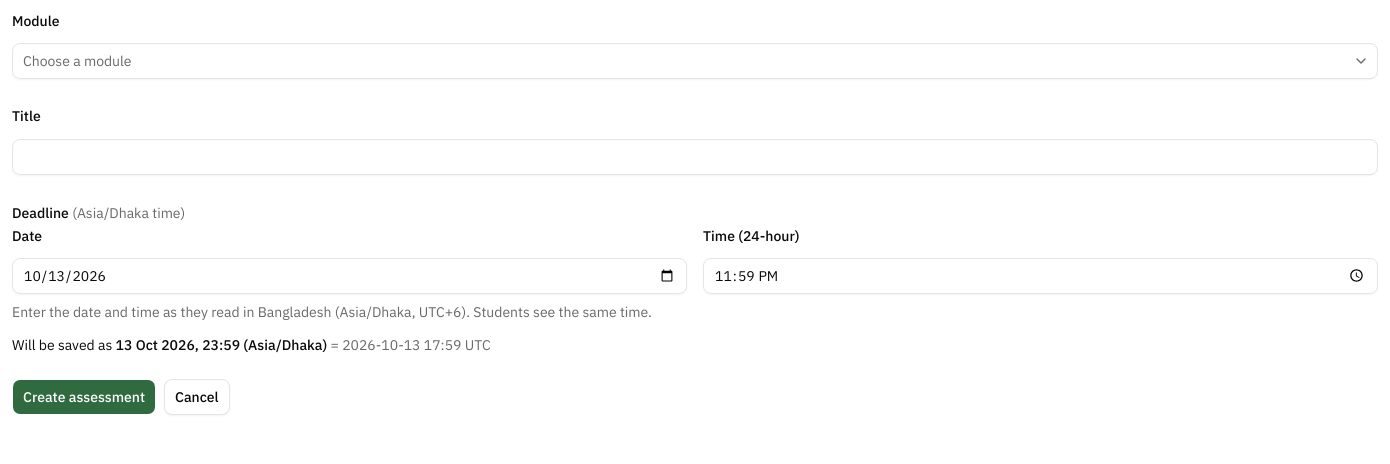
Scenario: new assessment form › maps a server field error onto the field
Click the dropdown labelled "module" at coordinates (77, 61), box [12,43,1378,79]
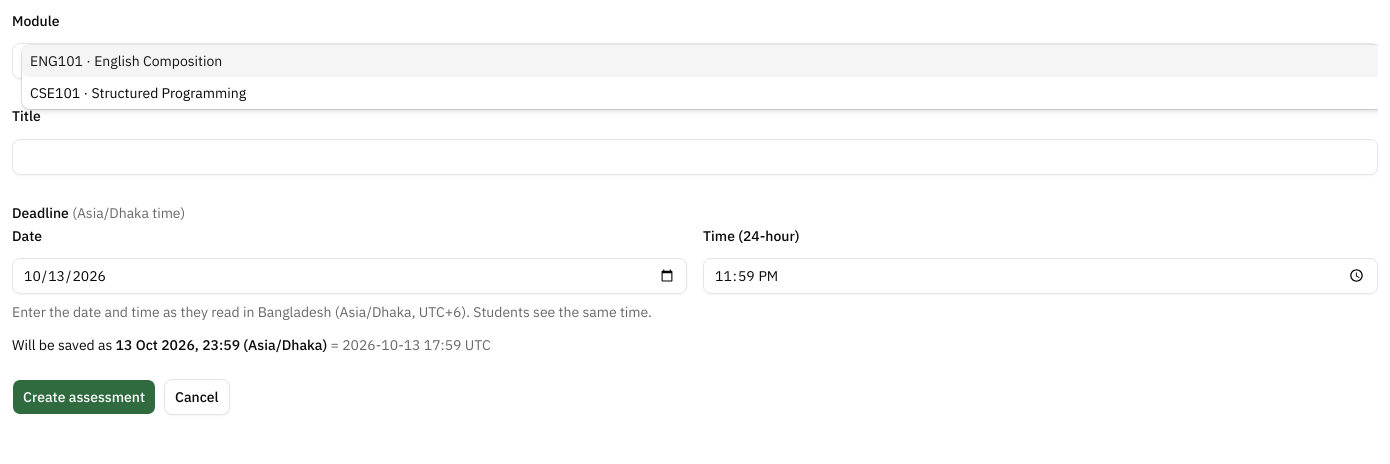
Click the option "ENG101 · English Composition" at coordinates (56, 61), box [22,45,1378,77]
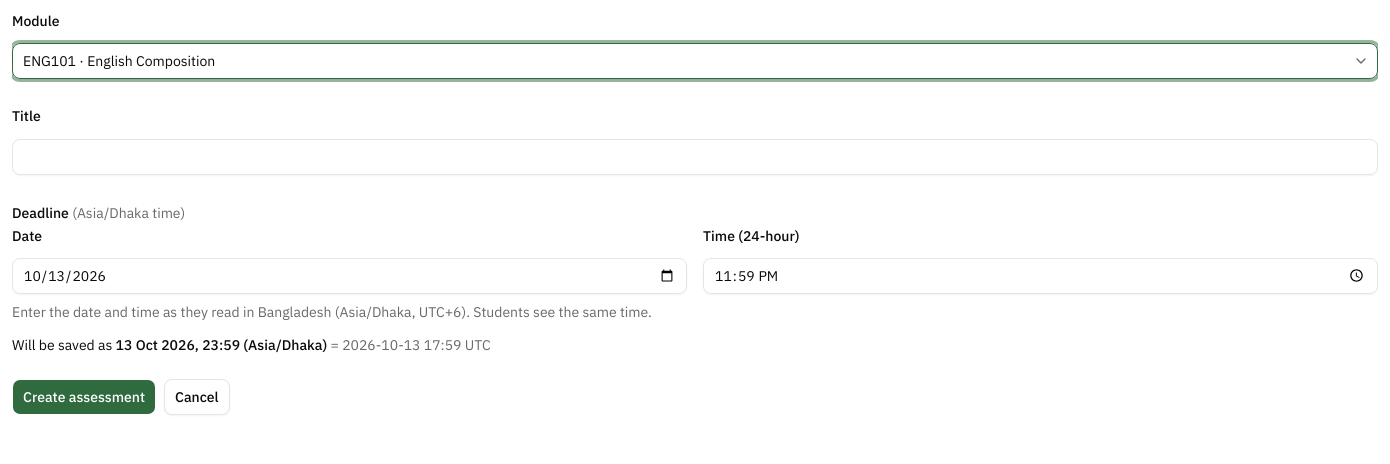
Type "Essay" into the field labelled "Title" at coordinates (695, 156), box [12,138,1378,174]
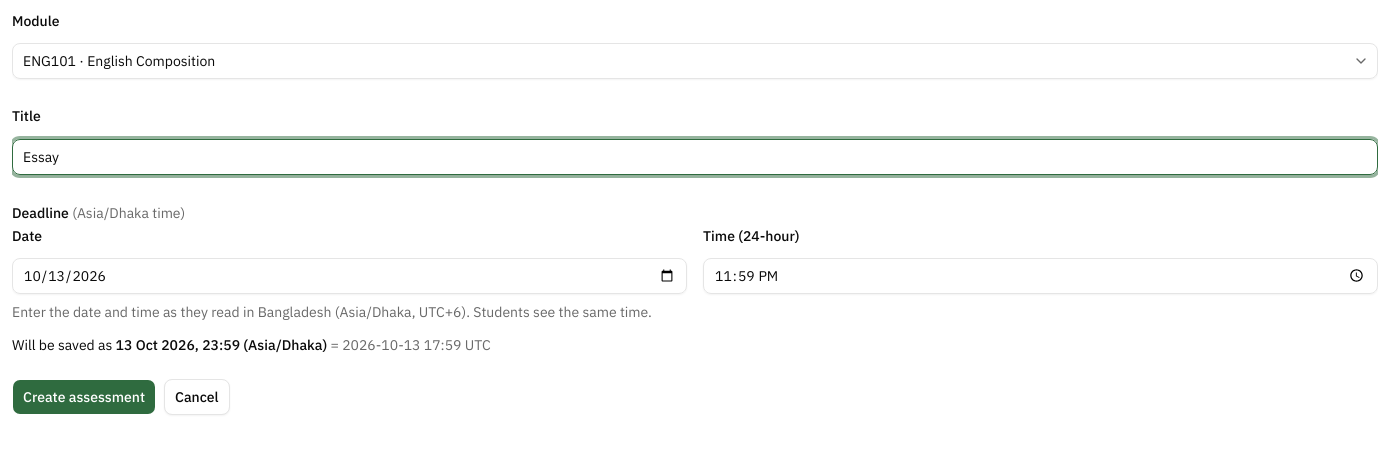
Click the button "Create assessment" at coordinates (84, 397), box [12,379,156,415]
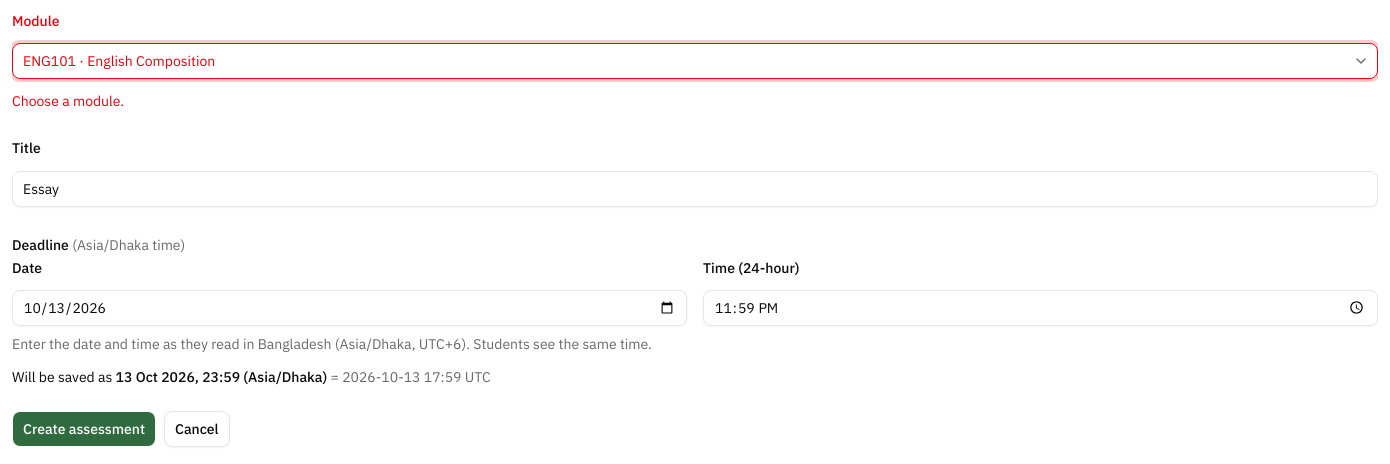
Expected: the text "Choose a module." is shown, [12,92,124,110]
